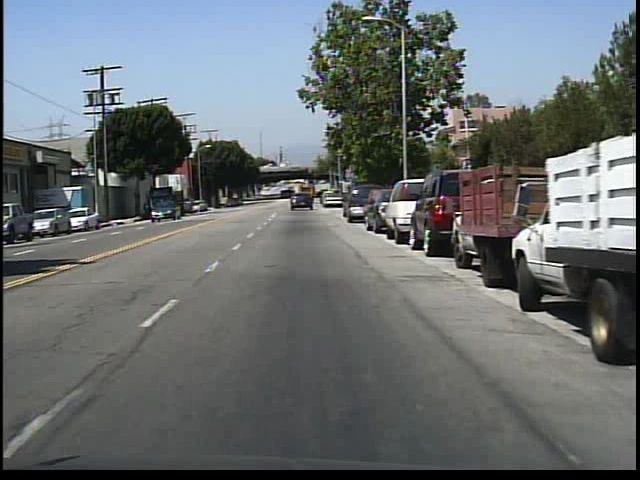car: (459, 167, 527, 280), (406, 173, 457, 253), (1, 200, 31, 241), (31, 206, 69, 232), (69, 206, 99, 228), (148, 200, 178, 222), (289, 189, 312, 210)
